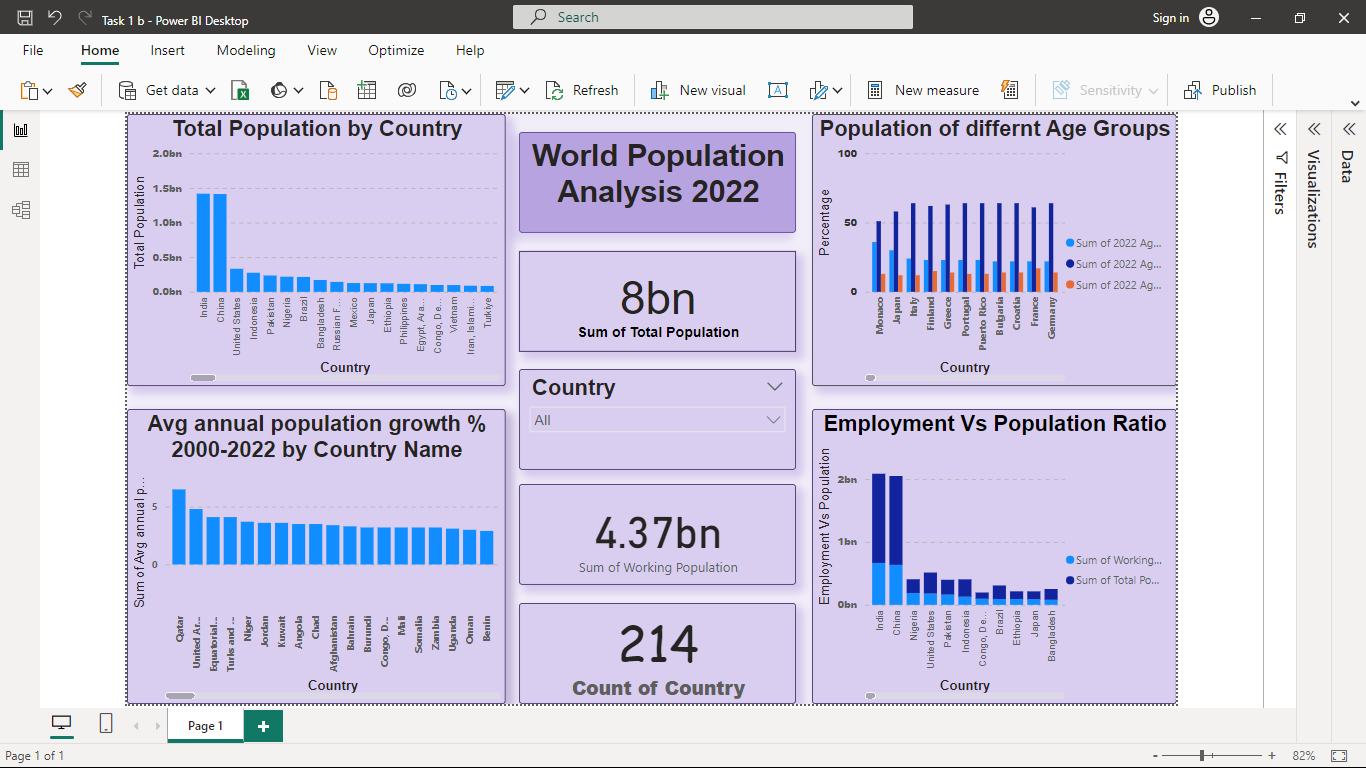

Layout of this report page (visuals, bound fields, positions):
{"tool":"powerbi","page":{"name":"Page 1","canvas":[1280,720],"ordinal":0},"visuals":[{"type":"clusteredColumnChart","title":"Population of differnt Age Groups","fields":{"Category":["Ages.Country Name"],"Y":["Sum(Ages.2022 Ages 65+ in %)","Sum(Ages.2022 Ages 15-64 in %)","Sum(Ages.2022 Ages 0-14 in %)"]},"box":[835.6,0,445,332.1],"z":0},{"type":"textbox","box":[478.3,21.7,338.3,123.3],"z":1000},{"type":"card","fields":{"Values":["Sum(Population Growth.Total Population)"]},"box":[478.3,166.7,338.3,123.3],"z":2000},{"type":"columnChart","title":"Avg annual population growth % 2000-2022 by Country Name","fields":{"Category":["Population Growth.Country Name"],"Y":["Sum(Population Growth.Avg annual population growth % 2000-2022)"]},"box":[0,360,461.7,360],"z":3000},{"type":"slicer","fields":{"Values":["Population Growth.Country Name"]},"box":[478.3,311.7,338.3,123.3],"z":4000},{"type":"card","fields":{"Values":["CountNonNull(Working Population.Country Name)"]},"box":[478.3,596.7,338.3,123.3],"z":5000},{"type":"card","fields":{"Values":["Sum(Working Population.Total Working Population)"]},"box":[478.3,451.7,338.3,123.3],"z":6000},{"type":"columnChart","title":"Employment Vs Population Ratio","fields":{"Category":["Working Population.Country"],"Y":["Sum(Working Population.Working Population)","Sum(Population Growth.Total Population)"]},"box":[835.6,360,445,360],"z":7000},{"type":"columnChart","title":"Total Population by Country","fields":{"Category":["Population Growth.Country"],"Y":["Sum(Population Growth.Total Population)"]},"box":[0,0,462.3,332.1],"z":8000}]}

Visuals, with their boxes on the page's 1280x720 design canvas (x1, y1, x2, y2). These are canvas units, not pixel positions in the 1366x768 screenshot, which may show the page scaled, cropped or inside an application window:
"Population of differnt Age Groups" clusteredColumnChart: <box>836,0,1281,332</box>
textbox: <box>478,22,817,145</box>
card - Sum(Population Growth.Total Population): <box>478,167,817,290</box>
"Avg annual population growth % 2000-2022 by Country Name" columnChart: <box>0,360,462,720</box>
slicer - Population Growth.Country Name: <box>478,312,817,435</box>
card - CountNonNull(Working Population.Country Name): <box>478,597,817,720</box>
card - Sum(Working Population.Total Working Population): <box>478,452,817,575</box>
"Employment Vs Population Ratio" columnChart: <box>836,360,1281,720</box>
"Total Population by Country" columnChart: <box>0,0,462,332</box>
